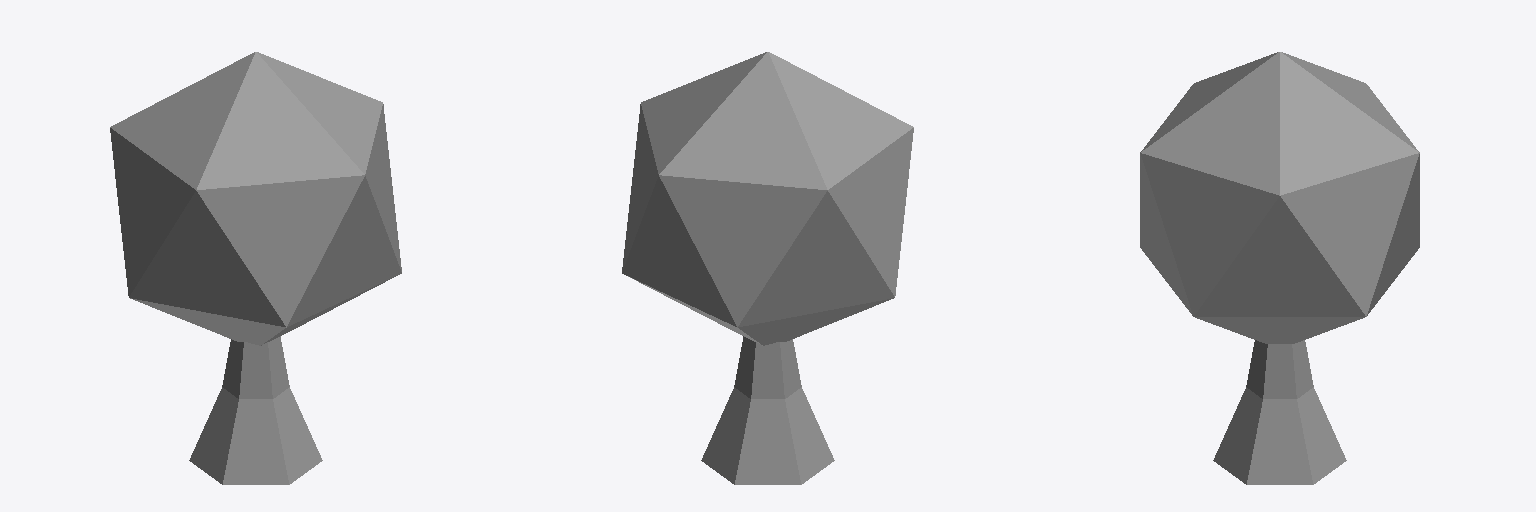
Rendered from SmallBush2.obj.
The picture shows the model from 3 angles: view 1: azimuth 30°, elevation 25°; view 2: azimuth 150°, elevation 25°; view 3: azimuth 270°, elevation 25°; orthographic projection.
Visible parts, largest first — view 1: Cylinder_Cylinder.004; view 2: Cylinder_Cylinder.004; view 3: Cylinder_Cylinder.004.
Part boxes in pixels (left/top/right/bottom): Cylinder_Cylinder.004: left=110, top=52, right=401, bottom=484; Cylinder_Cylinder.004: left=622, top=52, right=913, bottom=484; Cylinder_Cylinder.004: left=1140, top=52, right=1419, bottom=484.
Bounding box in the file's own units: 0.4316 × 0.6631 × 0.4105.